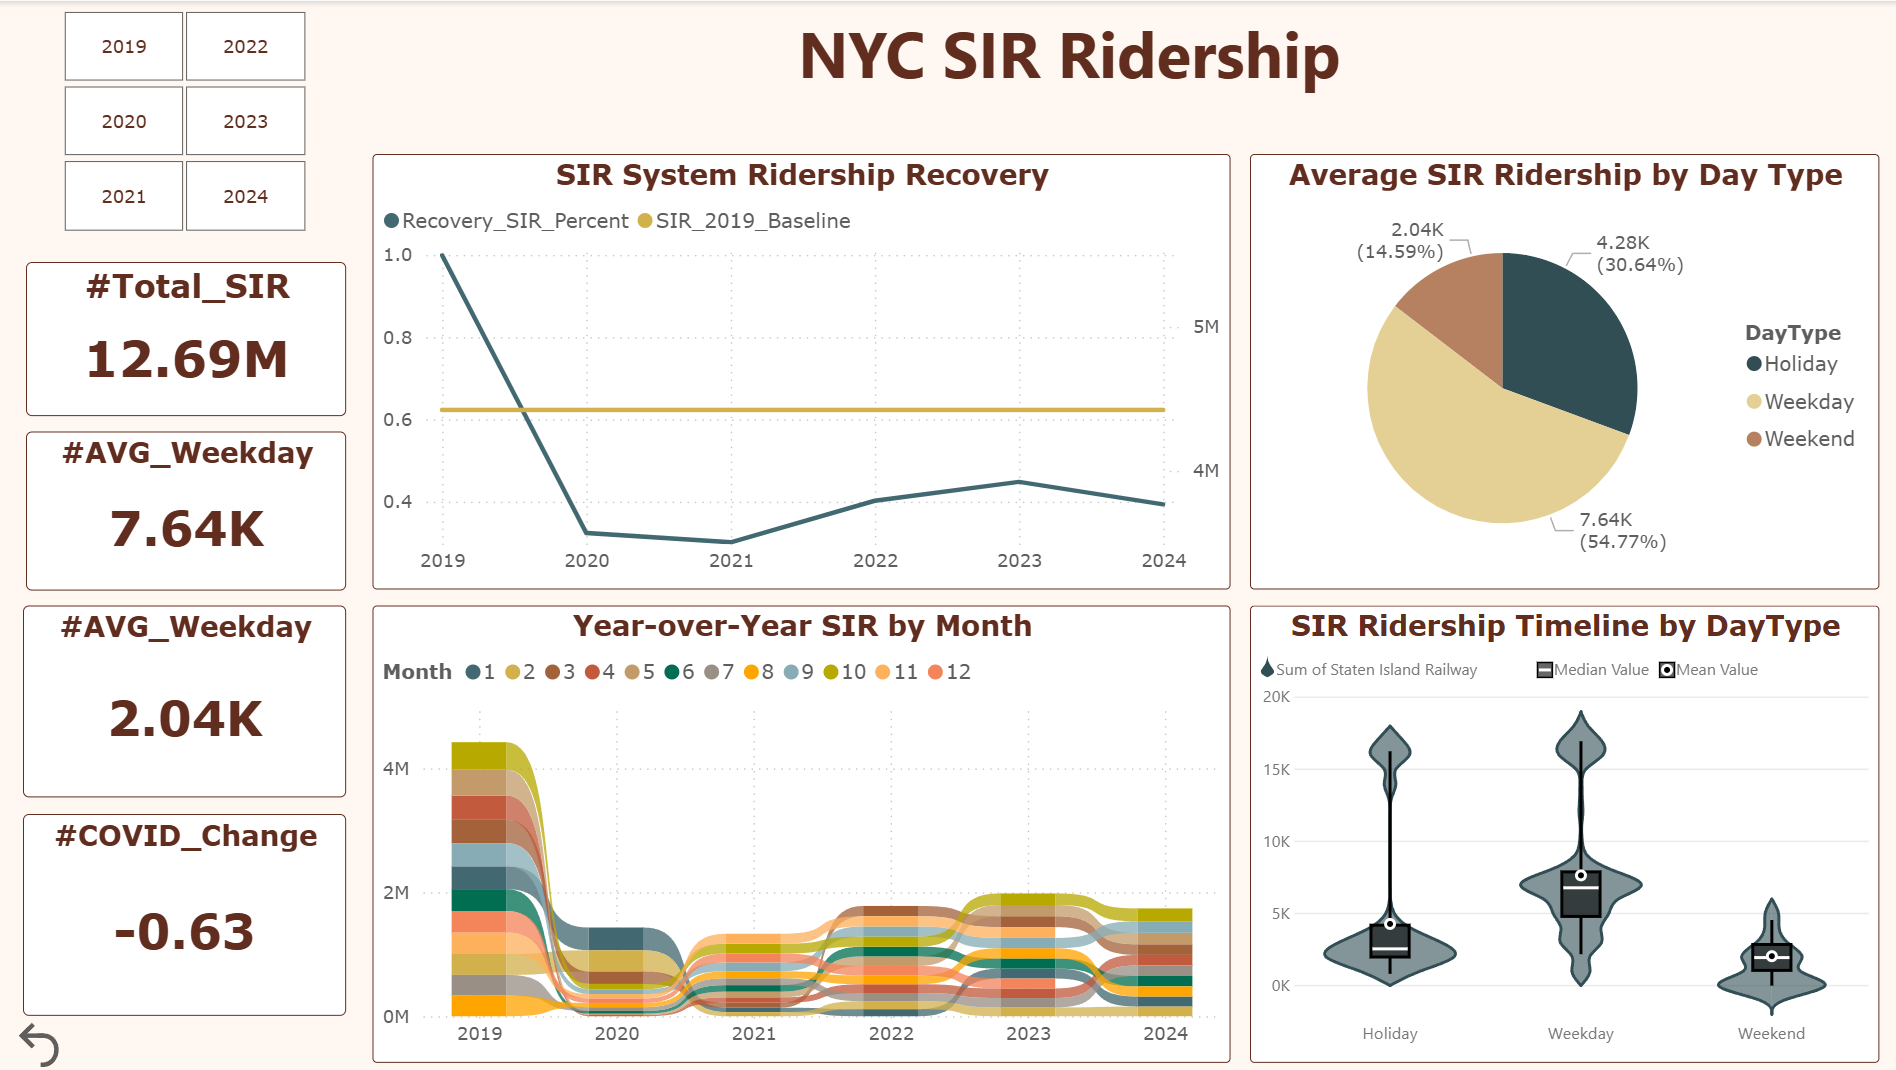

Layout of this report page (visuals, bound fields, positions):
{"tool":"powerbi","page":{"name":"SIR","canvas":[1280,720],"ordinal":7},"visuals":[{"type":"card","title":"#Total_SIR","fields":{"Values":["Sum(Final.Staten Island Railway)"]},"box":[22.1,175.5,214.7,103.1],"z":0},{"type":"card","title":"#AVG_Weekday","fields":{"Values":["Final.Avg_Weekday_SIR"]},"box":[22.1,288.3,214.7,106.7],"z":1000},{"type":"card","title":"#AVG_Weekday","fields":{"Values":["Final.Avg_Weekend_SIR"]},"box":[20,405,216.7,128.3],"z":2000},{"type":"card","title":"#COVID_Change","fields":{"Values":["Final.COVID_Change_Percent_SIR"]},"box":[20,545,216.7,135],"z":3000},{"type":"slicer","fields":{"Values":["Final.Date.Variation.Date Hierarchy.Year"]},"box":[22.1,0,211,160.7],"z":4000},{"type":"textbox","box":[352.1,0,750.9,87.1],"z":5000},{"type":"lineChart","title":"SIR System Ridership Recovery","fields":{"Category":["Final.Date.Variation.Date Hierarchy.Year","Final.Date.Variation.Date Hierarchy.Quarter","Final.Date.Variation.Date Hierarchy.Month","Final.Date.Variation.Date Hierarchy.Day"],"Y2":["Final.SIR_2019_Baseline"],"Y":["Final.Recovery_SIR_Percent"]},"box":[254,103.1,575.5,292],"z":6000},{"type":"pieChart","title":"Average SIR Ridership by Day Type","fields":{"Category":["Final.DayType"],"Y":["Final.Avg_Holiday_SIR","Final.Avg_Weekend_SIR","Final.Avg_Weekday_SIR"]},"box":[842.9,103.1,422.1,292],"z":7000},{"type":"ribbonChart","title":"Year-over-Year SIR by Month","fields":{"Category":["Final.Year"],"Series":["Final.Month"],"Y":["Final.Total SIR"]},"box":[254,404.9,575.5,306.8],"z":8000},{"type":"violinPlot4D46EB9EB3A141D9BA2289793175D971","title":"SIR Ridership Timeline by DayType","fields":{"category":["Final.DayType"],"sampling":["Final.Date"],"measure":["Sum(Final.Staten Island Railway)"]},"box":[842.9,404.9,422.1,306.8],"z":9000},{"type":"actionButton","box":[10.9,680.2,100.1,39.8],"z":10000}]}

Visuals, with their boxes in screenshot pixels (x1, y1, x2, y2), scaled from the page's 1280x720 canvas onto the 1896x1070 screenshot:
"#Total_SIR" card: [33,261,351,414]
"#AVG_Weekday" card: [33,428,351,587]
"#AVG_Weekday" card: [30,602,351,793]
"#COVID_Change" card: [30,810,351,1011]
slicer - Final.Date.Variation.Date Hierarchy.Year: [33,0,345,239]
textbox: [522,0,1634,129]
"SIR System Ridership Recovery" lineChart: [376,153,1229,587]
"Average SIR Ridership by Day Type" pieChart: [1249,153,1874,587]
"Year-over-Year SIR by Month" ribbonChart: [376,602,1229,1058]
"SIR Ridership Timeline by DayType" violinPlot4D46EB9EB3A141D9BA2289793175D971: [1249,602,1874,1058]
actionButton: [16,1011,164,1069]
